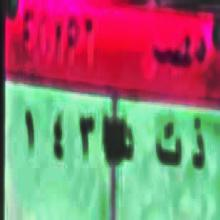1: (21, 100, 38, 168)
3: (78, 108, 98, 172)
4: (50, 106, 67, 167)
daal: (123, 118, 139, 168)
taa: (152, 116, 184, 182)
zaal: (188, 107, 210, 183)
